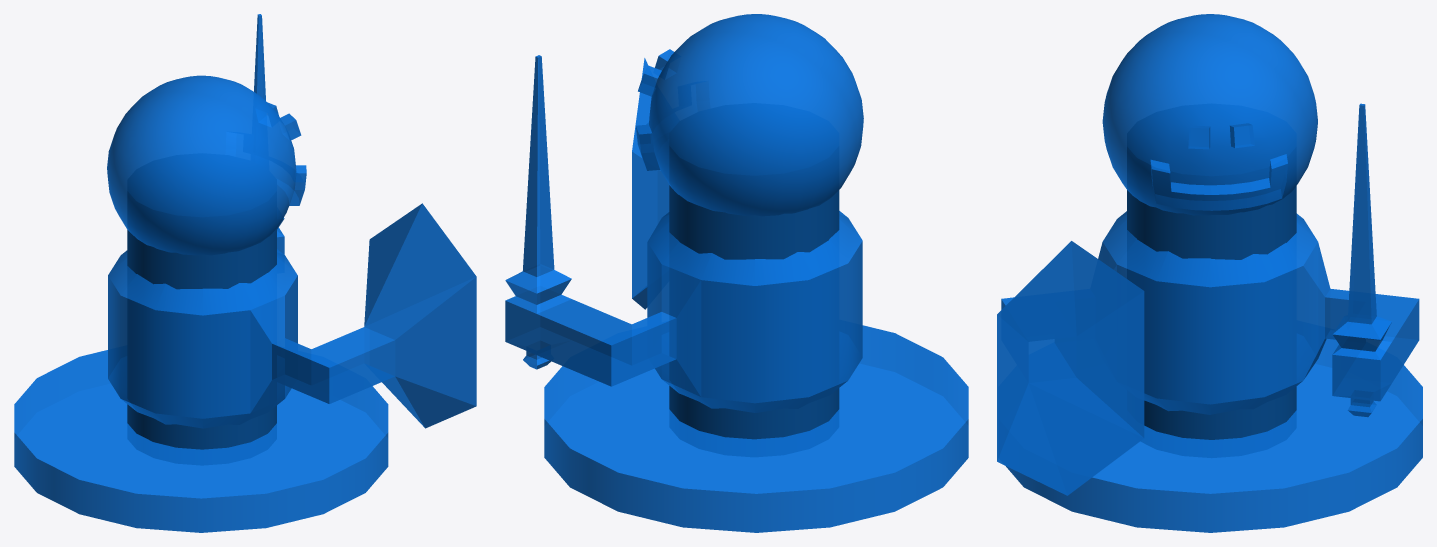
The model's file is BlueTeamPeaceSwordSheild.fbx.
3 renders of one model, left to right at view 1: azimuth 30°, elevation 25°; view 2: azimuth 150°, elevation 25°; view 3: azimuth 270°, elevation 25°, orthographic. The views are drawn at different scales.
Visible parts, largest first — view 1: Body, TreeStump, Base, head; view 2: TreeStump, Base, Body, head; view 3: Body, TreeStump, head, Base.
Boxes of the visible parts, box(x1,y1,x2,y2) form: Body: box(108, 14, 476, 428); TreeStump: box(127, 153, 276, 464); Base: box(14, 350, 388, 532); head: box(107, 75, 306, 255); TreeStump: box(669, 103, 839, 456); Base: box(544, 325, 968, 532); Body: box(505, 55, 862, 412); head: box(636, 14, 863, 216); Body: box(997, 103, 1419, 495); TreeStump: box(1127, 104, 1296, 457); head: box(1102, 14, 1317, 215); Base: box(1006, 339, 1422, 532).
Size of the model in its own units: 41.39 by 43.53 by 38.88.
